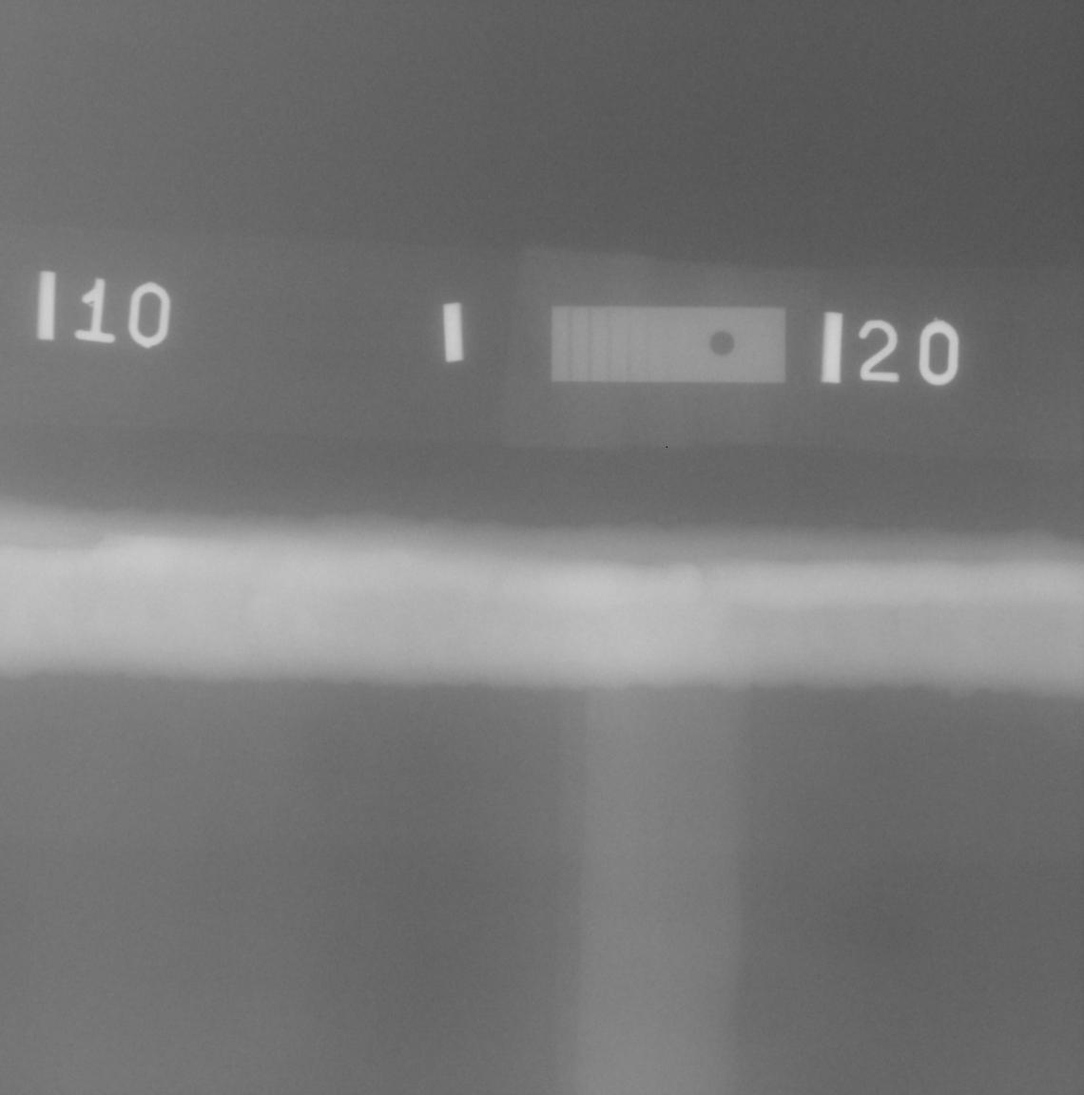Reference Standard 1: (550, 306, 787, 383)
